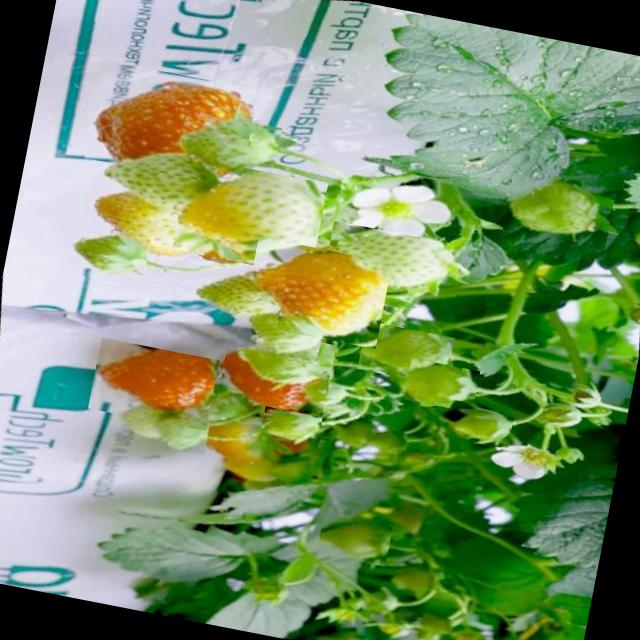ripe: (85, 59, 259, 188), (242, 237, 392, 349), (88, 338, 220, 432), (215, 348, 331, 430)
unripe: (172, 157, 328, 276), (323, 221, 466, 306), (99, 137, 223, 221), (502, 168, 616, 250), (228, 326, 336, 398), (175, 110, 282, 182), (191, 260, 287, 330), (358, 321, 456, 386), (236, 296, 326, 362), (66, 225, 150, 288), (404, 358, 481, 412), (317, 514, 393, 566), (445, 399, 515, 449), (259, 406, 323, 454), (110, 402, 173, 447), (152, 412, 210, 456)
